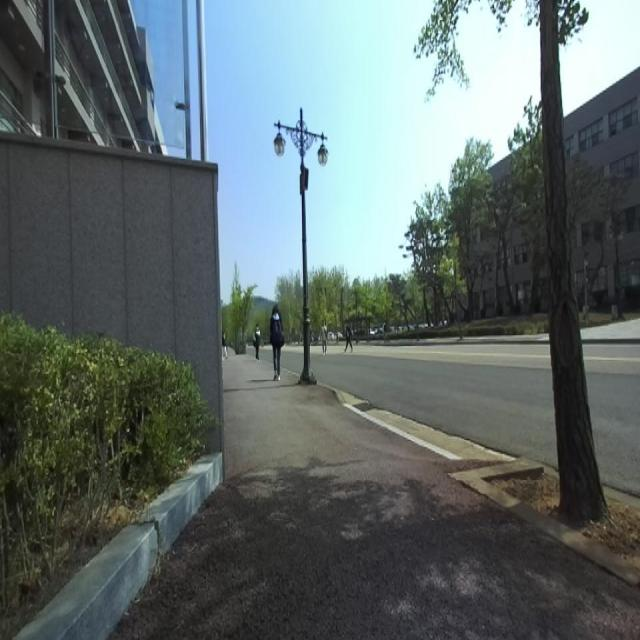sidewalk: (112, 355, 640, 639)
